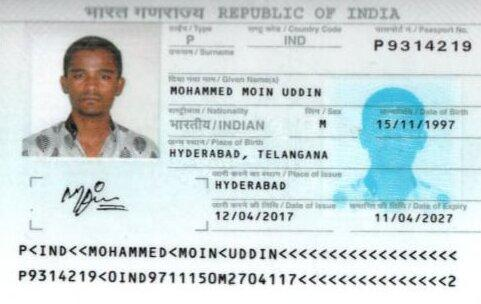DOB: (372, 115, 468, 135)
country_code: (276, 32, 312, 52)
date_of_expiry: (368, 210, 474, 231)
date_of_issue: (214, 207, 308, 230)
details: (16, 239, 463, 296)
name: (166, 79, 333, 100)
nationality: (167, 115, 277, 135)
passport_no: (367, 34, 475, 65)
photo: (24, 30, 160, 158)
place_of_birth: (161, 144, 373, 165)
place_of_issue: (211, 175, 300, 196)
sex: (306, 115, 342, 135)
sign: (42, 174, 194, 234)
type: (173, 32, 214, 48)
